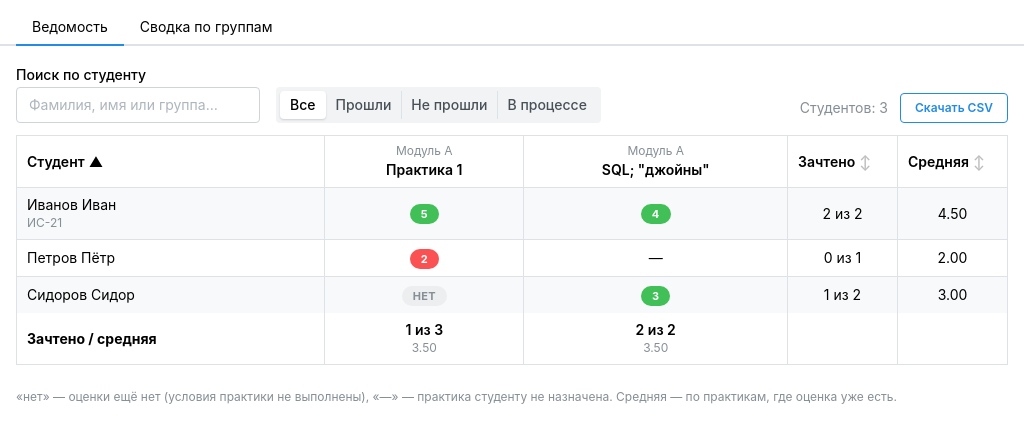
Scenario: GradebookTable › вкладка «Сводка по группам» показывает группы и общий итог
What coordinates should you click on to do the following:
click the tab "Сводка по группам"
I would click on:
 (206, 28)
Its box is [124,10,288,46].
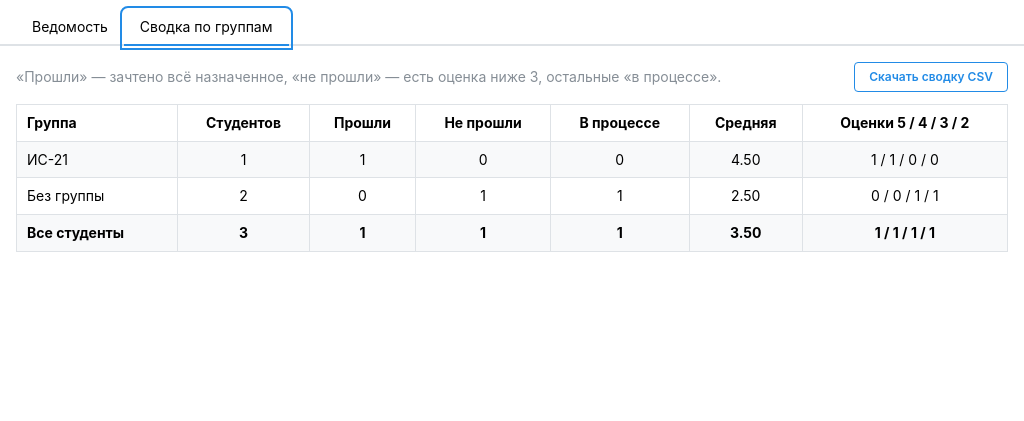
Now the text "Все студенты" is shown, box [16,215,178,251]
Now the text "Без группы" is shown, box [16,178,178,215]
Now the button "Скачать сводку CSV" is shown, box [854,62,1008,92]
